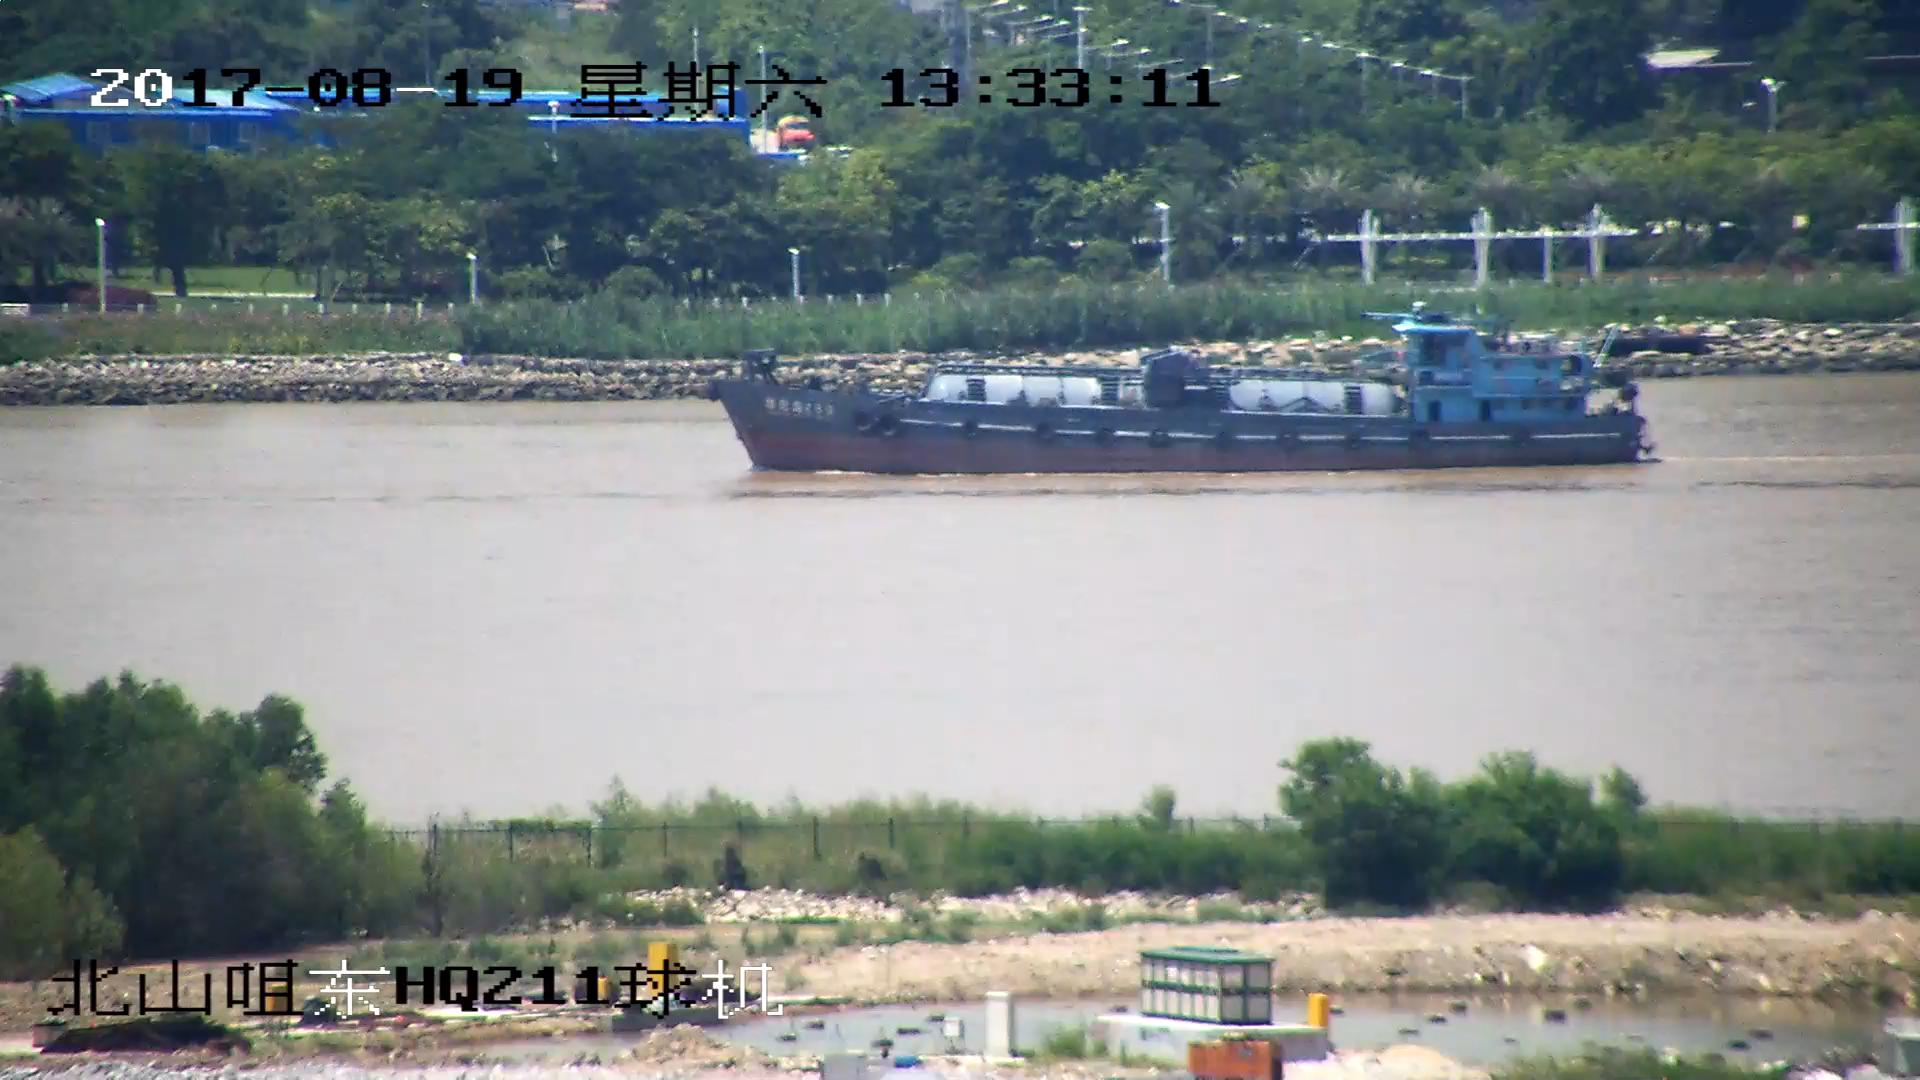bulk cargo carrier: (711, 306, 1650, 471)
